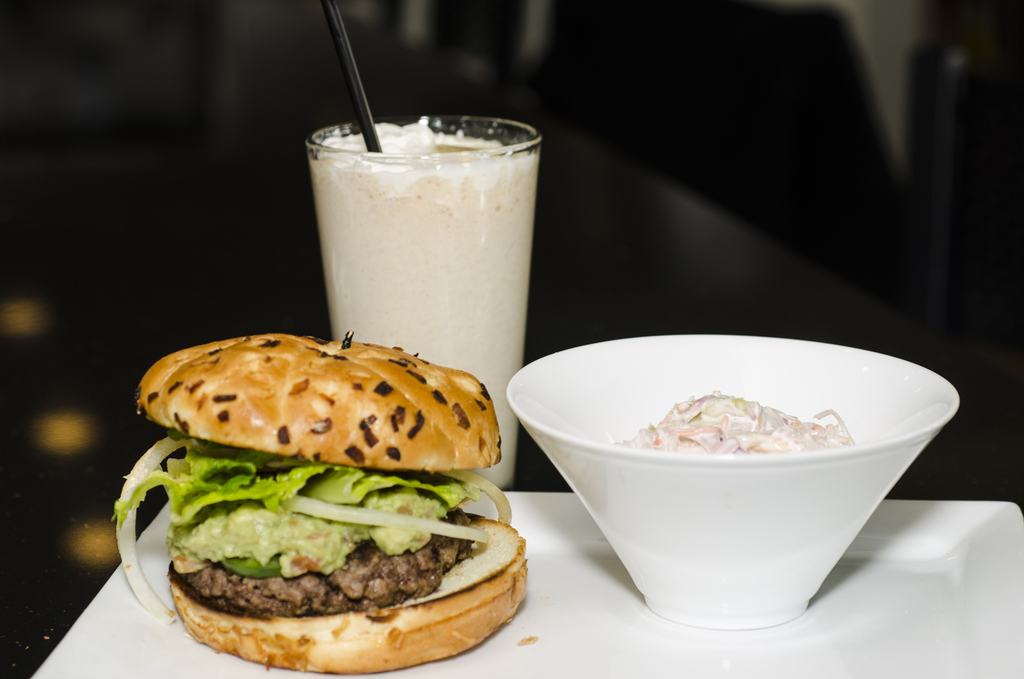Hamburger: (111, 334, 528, 674)
